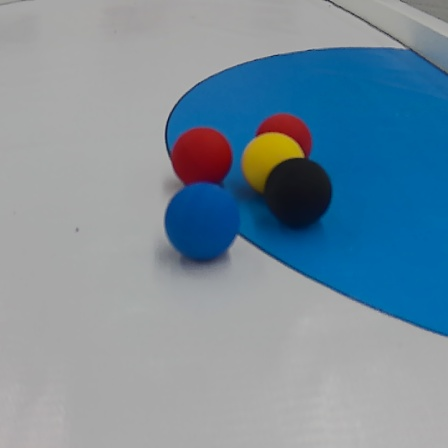black: (266, 157, 330, 229)
blue: (156, 178, 236, 264)
blue_base: (166, 38, 448, 340)
red: (166, 128, 234, 184), (261, 107, 313, 159)
yellow: (242, 133, 301, 188)
